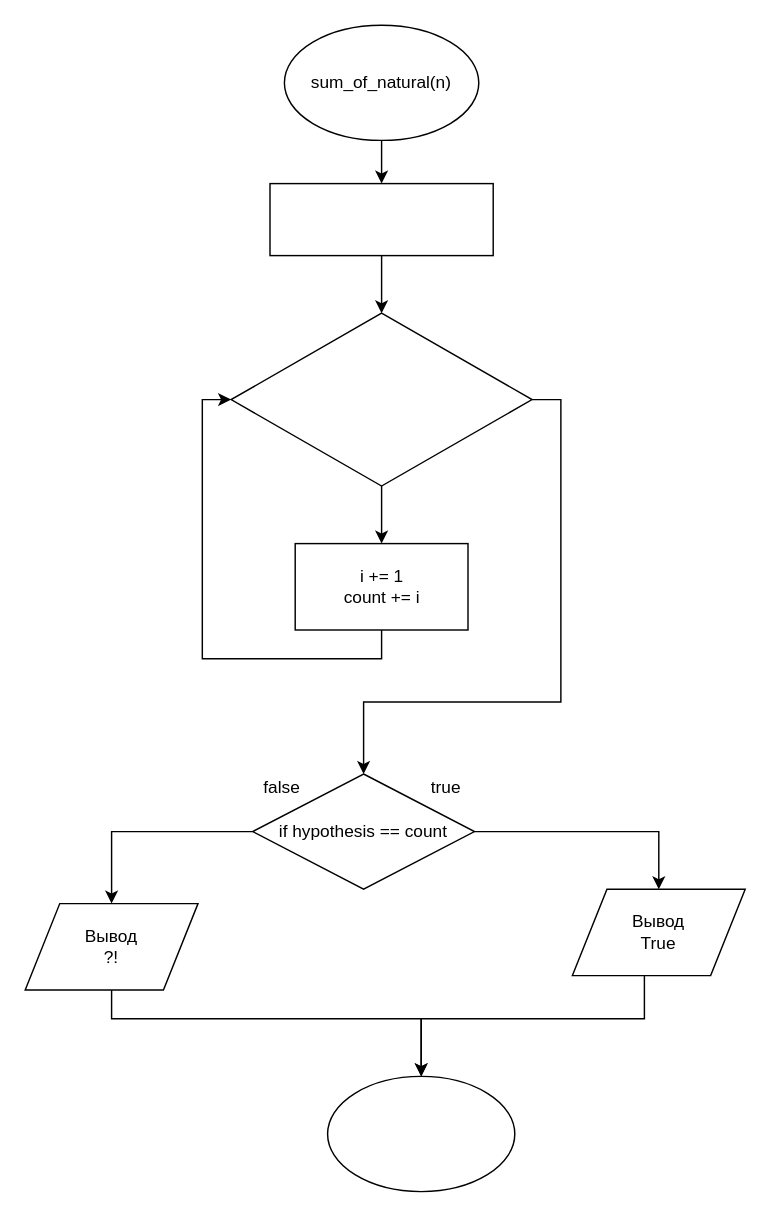
This 770x1217 diagram has some shape labels left out. Each missing label, with the centre of its shape:
"hypothesis = (n *(n-1))/2 count = 0 i = 0" goes at (x=381, y=219).
"while i<n or count > hypothesis" goes at (x=381, y=399).
"конец" goes at (x=420, y=1133).
